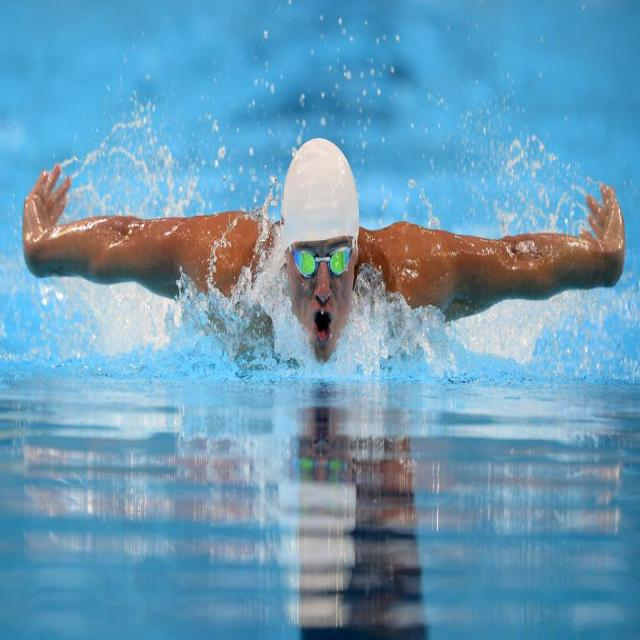Face: (285, 229, 359, 372)
